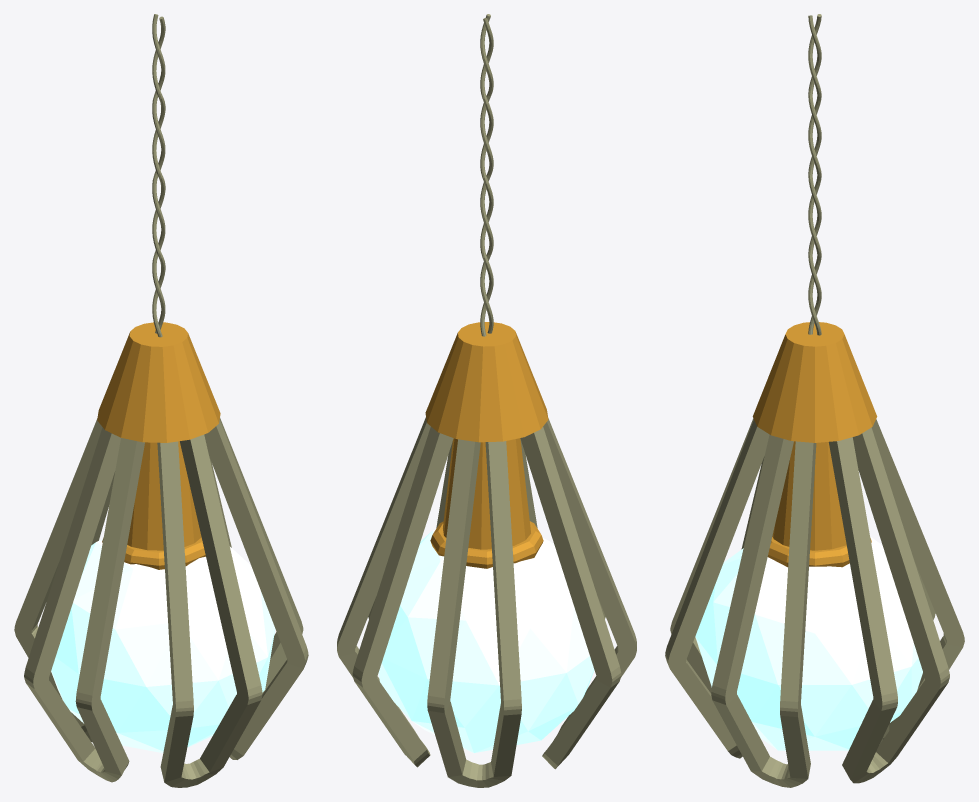
The model's file is CageLamp.fbx.
3 renders of one model, left to right at view 1: azimuth 30°, elevation 25°; view 2: azimuth 150°, elevation 25°; view 3: azimuth 270°, elevation 25°, orthographic.
Parts seen in each view (by area): view 1: Cage, Bulb, Armature, Wire; view 2: Cage, Bulb, Armature, Wire; view 3: Cage, Bulb, Armature, Wire.
Part boxes in pixels (bbox=[...]): Cage: bbox=[14, 418, 308, 787]; Bulb: bbox=[51, 539, 275, 752]; Armature: bbox=[97, 322, 220, 569]; Wire: bbox=[152, 14, 165, 337]; Cage: bbox=[337, 417, 636, 787]; Bulb: bbox=[378, 530, 594, 752]; Armature: bbox=[425, 322, 548, 568]; Wire: bbox=[480, 14, 493, 336]; Cage: bbox=[665, 418, 964, 787]; Bulb: bbox=[695, 536, 922, 750]; Armature: bbox=[752, 322, 877, 567]; Wire: bbox=[808, 14, 821, 335].
Bounding box in the file's own units: 660 × 1806 × 659.
